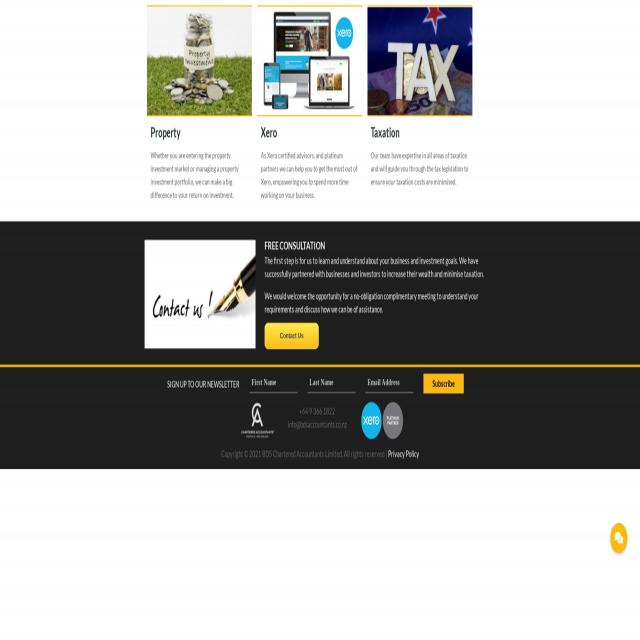button: (144, 240, 256, 349), (147, 7, 252, 115), (258, 7, 362, 115), (368, 7, 472, 115), (237, 396, 279, 445), (361, 402, 403, 439), (265, 323, 319, 349)
field: (250, 372, 298, 393), (308, 372, 356, 393), (366, 372, 414, 393), (424, 374, 464, 394)
